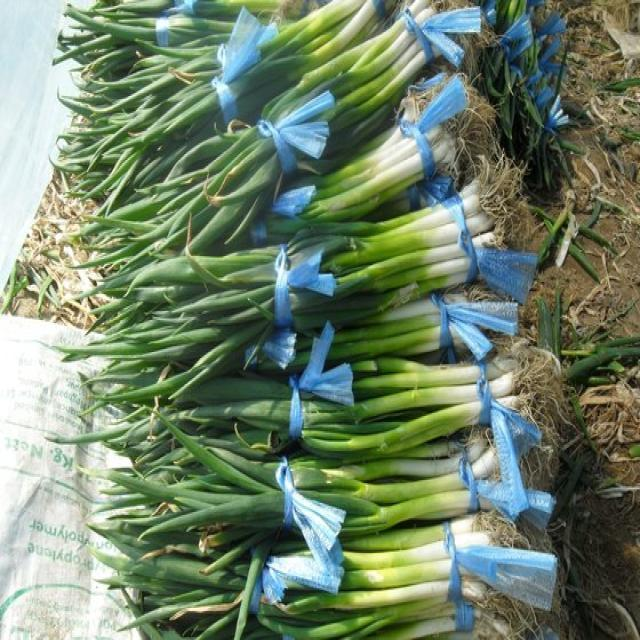green_onion: (76, 80, 484, 309), (82, 169, 522, 346), (72, 4, 440, 211), (84, 327, 552, 447), (85, 435, 522, 542), (262, 585, 526, 640)
